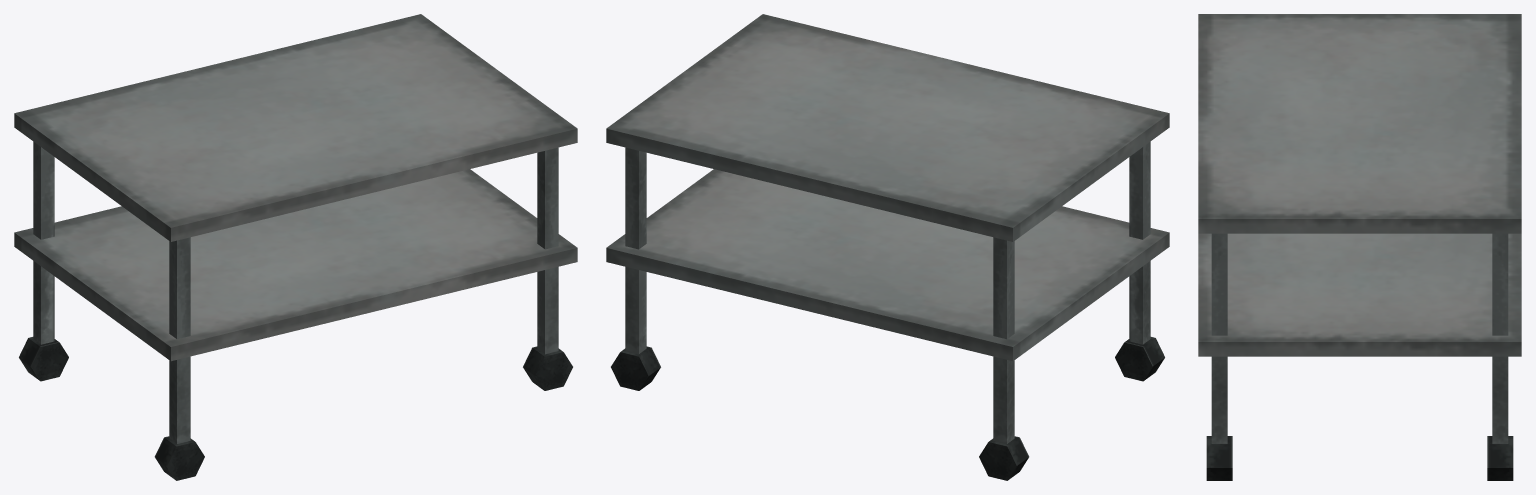
Rendered from MESH_MESAFERRAMENTAS.fbx.
The picture shows the model from 3 angles, left to right: view 1: azimuth 30°, elevation 25°; view 2: azimuth 150°, elevation 25°; view 3: azimuth 270°, elevation 25°; orthographic projection. The views are drawn at different scales.
Parts seen in each view (by area): view 1: MESH_MESAFERRAMENTAS; view 2: MESH_MESAFERRAMENTAS; view 3: MESH_MESAFERRAMENTAS.
Boxes of the visible parts, x1=… form: MESH_MESAFERRAMENTAS: x1=14, y1=14, x2=577, y2=480; MESH_MESAFERRAMENTAS: x1=606, y1=14, x2=1169, y2=480; MESH_MESAFERRAMENTAS: x1=1198, y1=14, x2=1521, y2=480.
Bounding box in the file's own units: 1.5 × 0.9106 × 1.
